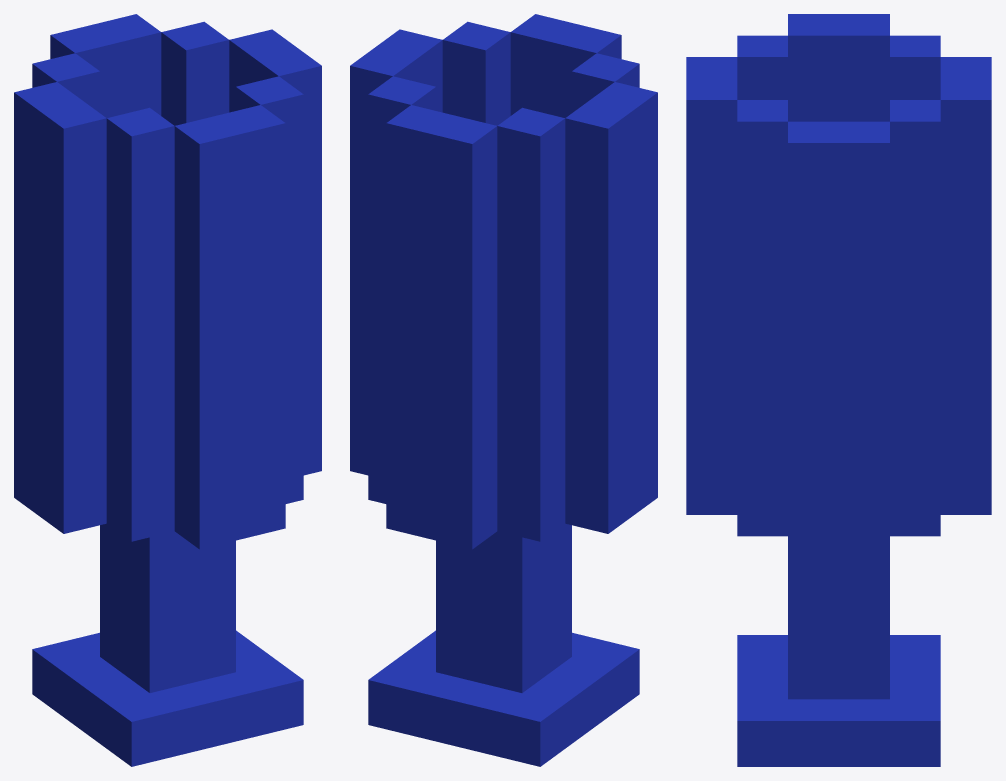
3 views of the same model, side by side, from view 1: azimuth 30°, elevation 25°; view 2: azimuth 150°, elevation 25°; view 3: azimuth 270°, elevation 25° (orthographic). The views are drawn at different scales.
Parts seen in each view (by area): view 1: 12; view 2: 12; view 3: 12.
Part boxes in pixels (<box>): 12: <box>14,14,321,766</box>; 12: <box>350,14,657,766</box>; 12: <box>686,14,991,766</box>.
Bounding box in the file's own units: 0.6 × 1.4 × 0.6.
1 material, 1 textured.
